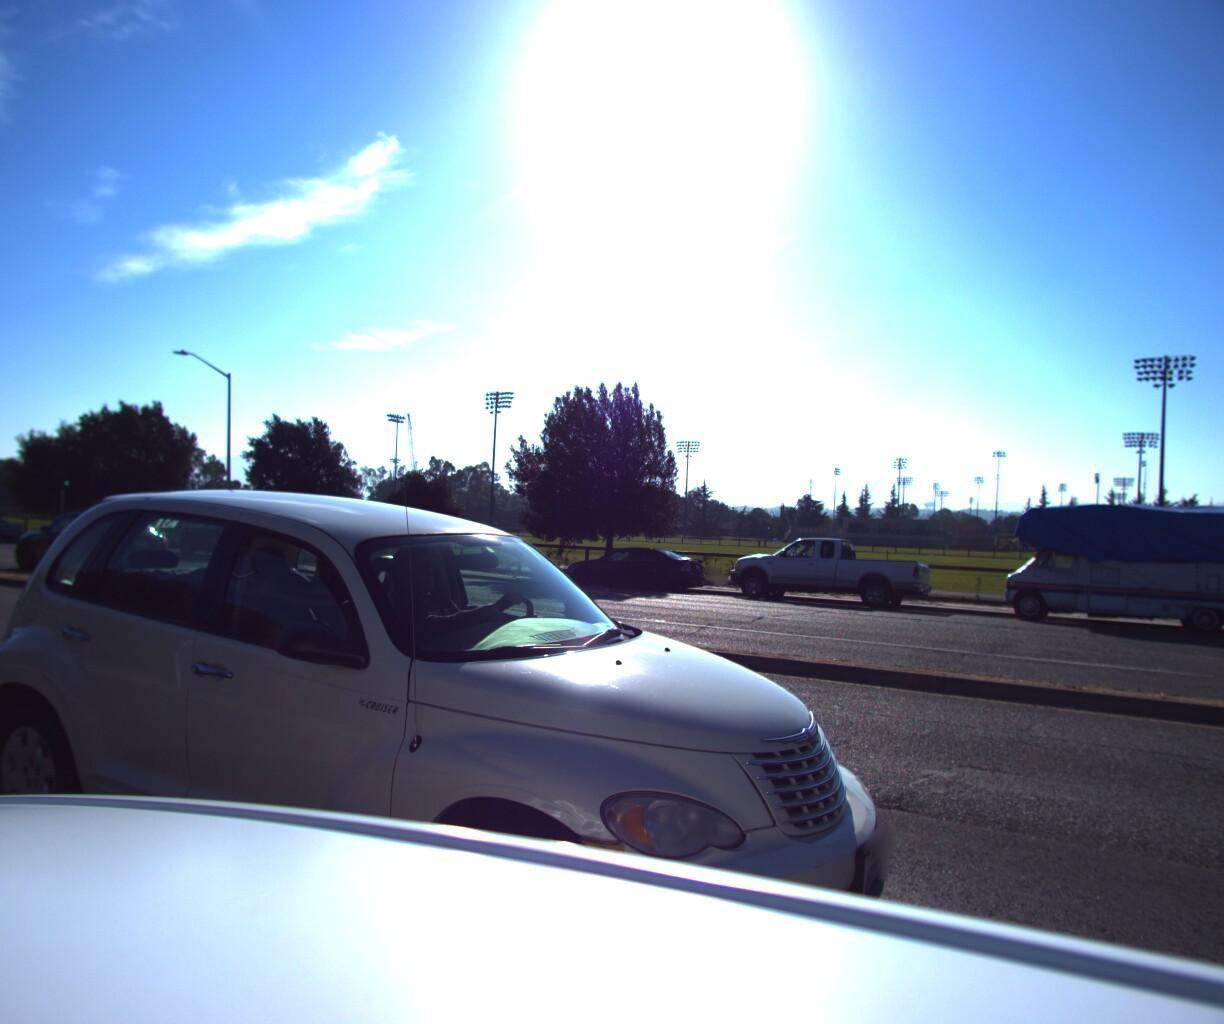car: (0, 466, 966, 1024), (712, 530, 941, 619), (1, 511, 182, 586), (550, 548, 710, 602), (0, 516, 29, 551)
other_vehicle: (991, 494, 1224, 654)
